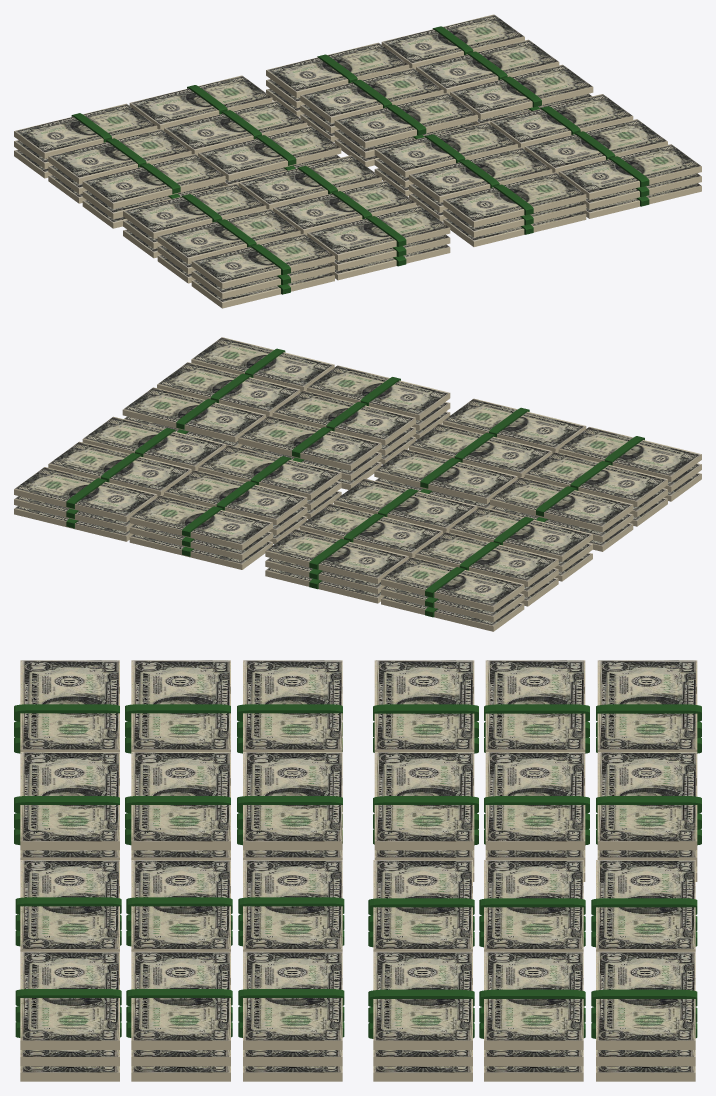
The model's file is dollars_money_multiple.glb.
The picture shows the model from 3 angles, top to bottom: view 1: azimuth 30°, elevation 25°; view 2: azimuth 150°, elevation 25°; view 3: azimuth 270°, elevation 25°; orthographic projection. The views are drawn at different scales.
Visible parts, largest first — view 1: Cash_Material.002_0.001, Cash_Material.002_0, Cash_Material.002_0.002, Cash_Material.002_0.003, Cash_Material.005_0.001, Cash_Material.005_0, Cash_Material.005_0.002, Cash_Material.005_0.003; view 2: Cash_Material.002_0.002, Cash_Material.002_0.003, Cash_Material.002_0.001, Cash_Material.002_0, Cash_Material.005_0.002, Cash_Material.005_0.003, Cash_Material.005_0.001, Cash_Material.005_0; view 3: Cash_Material.002_0, Cash_Material.002_0.003, Cash_Material.002_0.002, Cash_Material.002_0.001, Cash_Material.005_0.003, Cash_Material.005_0, Cash_Material.005_0.001, Cash_Material.005_0.002.
Part boxes in pixels (x1,y1,x2,y2): Cash_Material.002_0.001: [123, 155, 450, 308]; Cash_Material.002_0: [374, 94, 701, 246]; Cash_Material.002_0.002: [14, 75, 341, 228]; Cash_Material.002_0.003: [266, 14, 593, 166]; Cash_Material.005_0.001: [181, 166, 406, 294]; Cash_Material.005_0: [424, 106, 649, 234]; Cash_Material.005_0.002: [71, 85, 296, 198]; Cash_Material.005_0.003: [317, 26, 541, 139]; Cash_Material.002_0.002: [265, 478, 592, 631]; Cash_Material.002_0.003: [14, 416, 341, 569]; Cash_Material.002_0.001: [374, 398, 701, 551]; Cash_Material.002_0: [122, 337, 450, 489]; Cash_Material.005_0.002: [309, 488, 534, 617]; Cash_Material.005_0.003: [66, 428, 291, 556]; Cash_Material.005_0.001: [420, 407, 644, 522]; Cash_Material.005_0: [176, 348, 400, 462]; Cash_Material.002_0: [20, 860, 342, 1081]; Cash_Material.002_0.003: [373, 860, 695, 1081]; Cash_Material.002_0.002: [374, 660, 697, 881]; Cash_Material.002_0.001: [20, 660, 342, 859]; Cash_Material.005_0.003: [368, 898, 697, 1038]; Cash_Material.005_0: [15, 897, 344, 1037]; Cash_Material.005_0.001: [14, 704, 342, 845]; Cash_Material.005_0.002: [373, 704, 701, 845].
Size of the model in its own units: 5.91 by 0.318 by 4.52.
4 materials, 2 textured.
